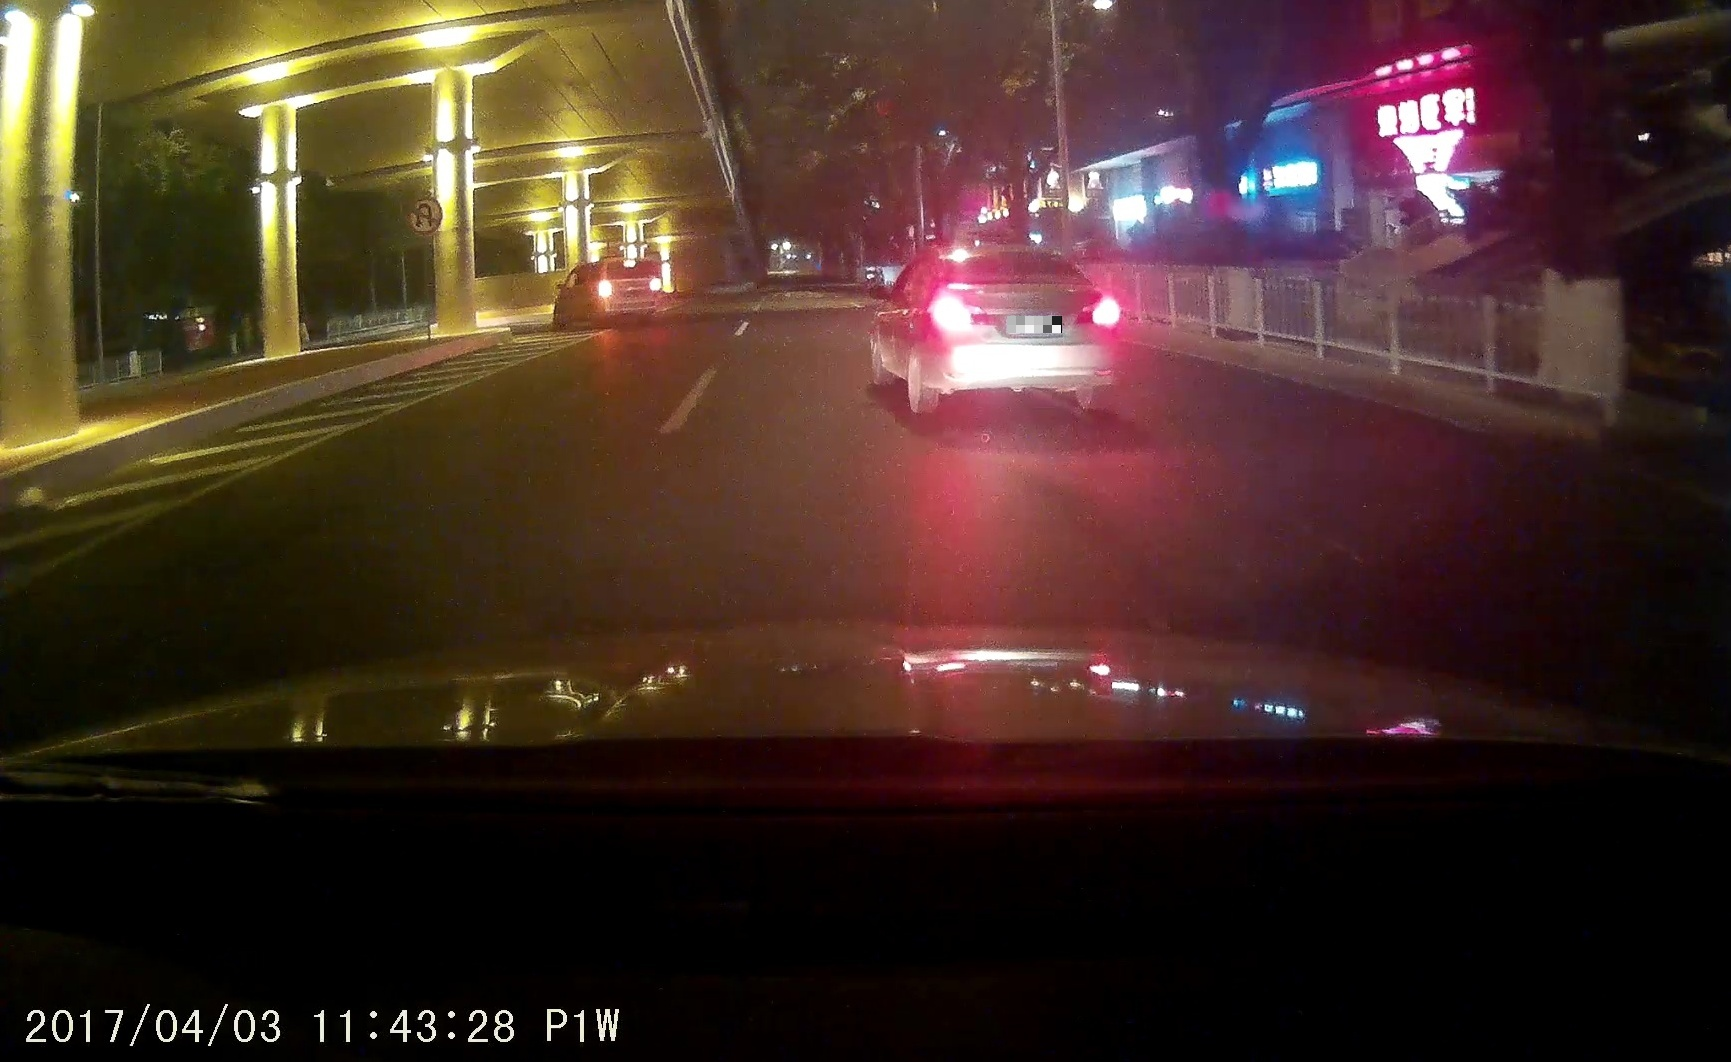L_light: (929, 292, 988, 331), (598, 279, 612, 298)
R_light: (1074, 295, 1119, 326), (649, 278, 661, 291)
T_light: (995, 251, 1029, 257), (623, 260, 636, 267)
night-left: (598, 258, 661, 324)
night-no: (927, 246, 1119, 414)
plate_1: (1006, 316, 1062, 333)
